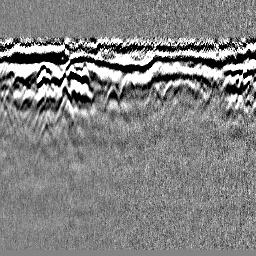cavity: (119, 72, 138, 99)
